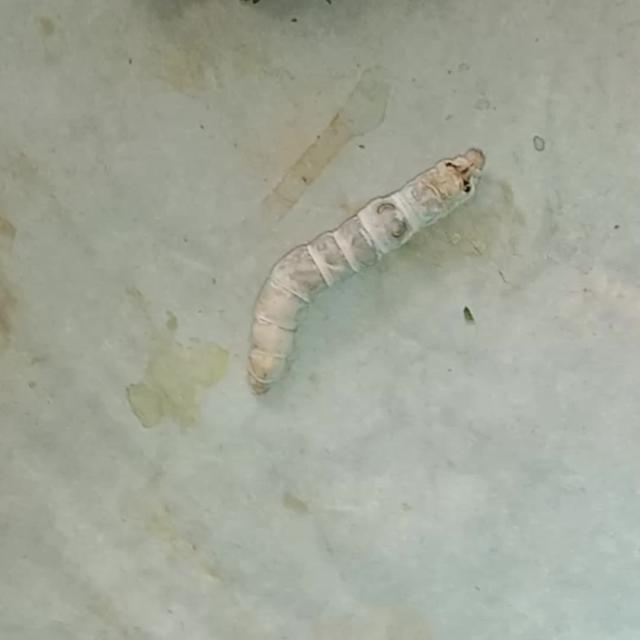Grasserie: (238, 134, 499, 405)
